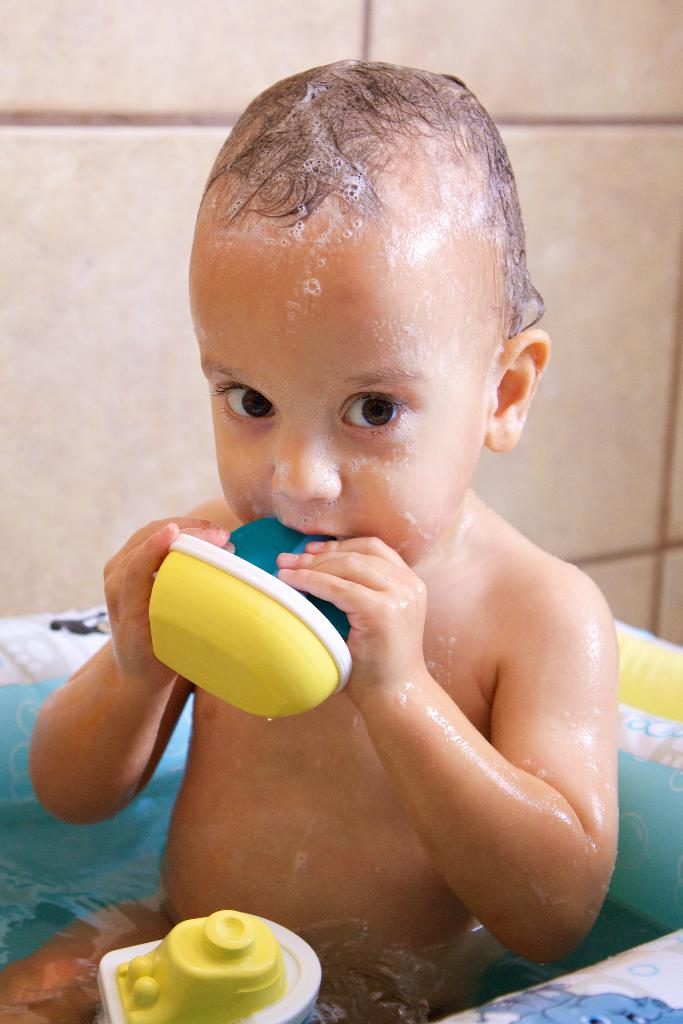Human_hand: (277, 534, 427, 710), (105, 523, 235, 681)
